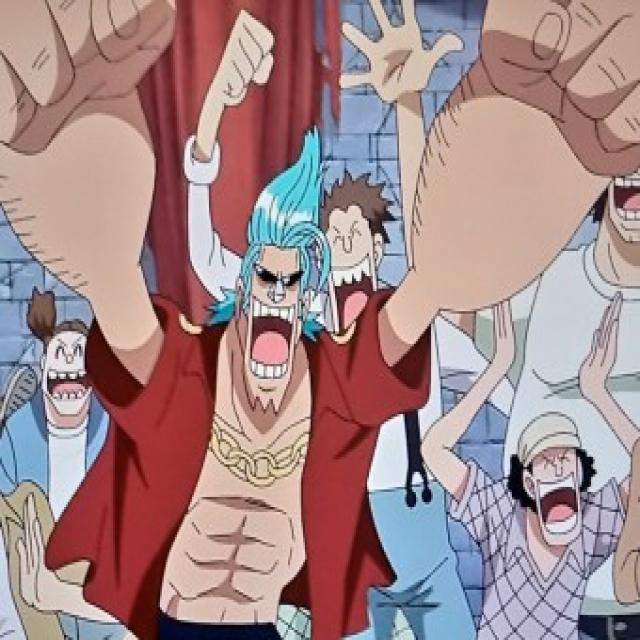Franky: (210, 123, 336, 419)
